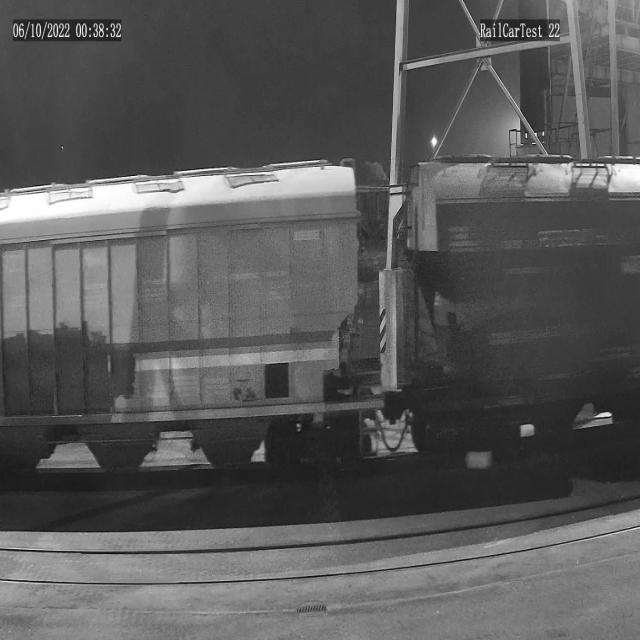hopper: (0, 148, 386, 495), (392, 144, 640, 478)
